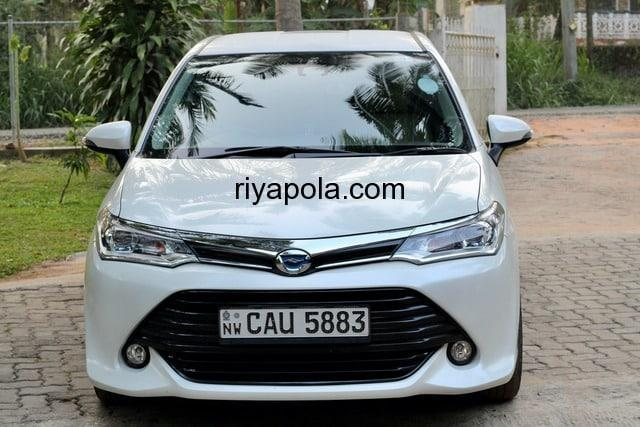license-plate: (219, 308, 367, 336)
